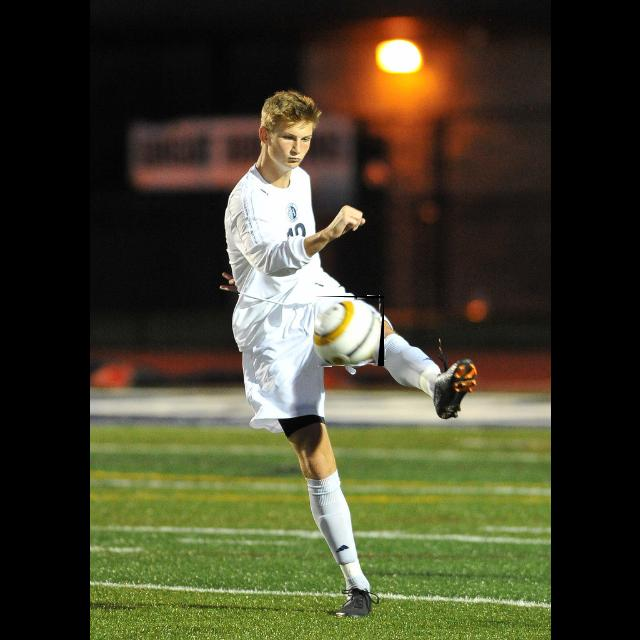Football: (314, 296, 384, 366)
